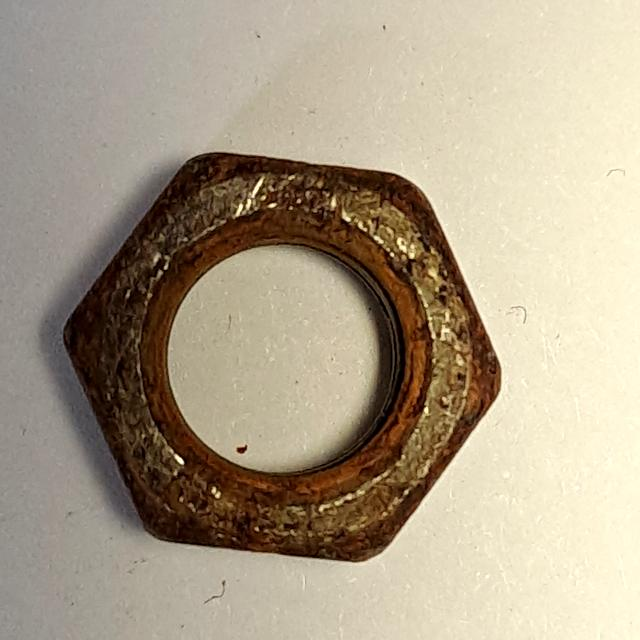Rust: (49, 141, 514, 576)
